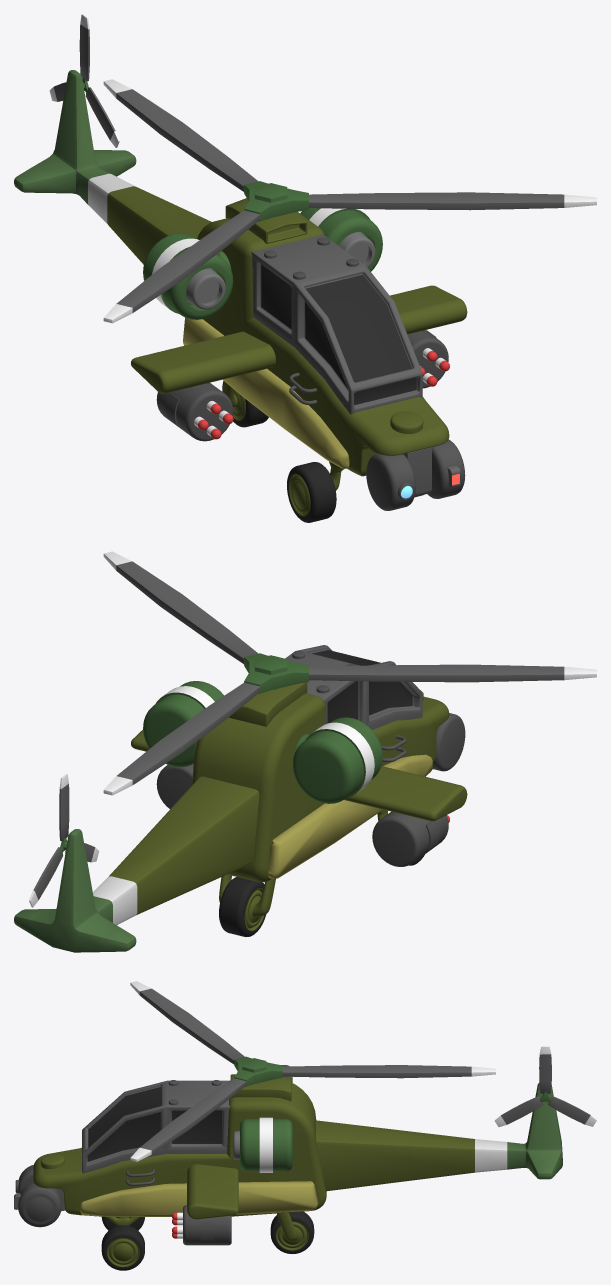
Rendered from helikopter.fbx.
3 views of the same model, one above another, from view 1: azimuth 30°, elevation 25°; view 2: azimuth 150°, elevation 25°; view 3: azimuth 270°, elevation 25° (orthographic). The views are drawn at different scales.
Visible parts, largest first — view 1: govde.002, cam, pervane, kanat, Cylinder.005, govde.004, Cylinder.007, teker, Cylinder, Cylinder.006, govde.003, Cylinder.001 (+2 smaller); view 2: govde.002, pervane, Cylinder.005, cam, govde.004, kanat, Cylinder.007, teker, govde.003, Cylinder.006, Cylinder; view 3: govde.002, cam, pervane, govde.004, teker, Cylinder.005, kanat, Cylinder.006, Cylinder.001, Cylinder.007, govde.003.
Boxes of the visible parts, x1,y1,x2,y2 form: govde.002: (14, 70, 449, 476); cam: (251, 234, 422, 414); pervane: (103, 79, 596, 323); kanat: (131, 285, 467, 393); Cylinder.005: (143, 208, 382, 319); govde.004: (183, 317, 349, 468); Cylinder.007: (156, 330, 448, 441); teker: (222, 381, 422, 522); Cylinder: (366, 453, 415, 510); Cylinder.006: (49, 14, 119, 147); govde.003: (225, 198, 307, 243); Cylinder.001: (427, 439, 465, 498); govde.002: (14, 693, 449, 952); pervane: (103, 551, 596, 795); Cylinder.005: (143, 681, 382, 803); cam: (285, 645, 422, 729); govde.004: (268, 754, 432, 878); kanat: (131, 730, 467, 821); Cylinder.007: (156, 764, 448, 866); teker: (219, 809, 424, 936); govde.003: (229, 682, 307, 726); Cylinder.006: (29, 774, 99, 907); Cylinder: (432, 713, 465, 771); govde.002: (33, 1080, 562, 1216); cam: (82, 1080, 229, 1173); pervane: (130, 981, 495, 1161); govde.004: (80, 1181, 318, 1216); teker: (101, 1211, 314, 1270); Cylinder.005: (233, 1063, 292, 1172); kanat: (187, 1164, 238, 1219); Cylinder.006: (494, 1046, 596, 1126); Cylinder.001: (18, 1182, 61, 1227); Cylinder.007: (183, 1205, 231, 1245); govde.003: (230, 1074, 291, 1101).
Size of the model in its own units: 623 by 338 by 860.
